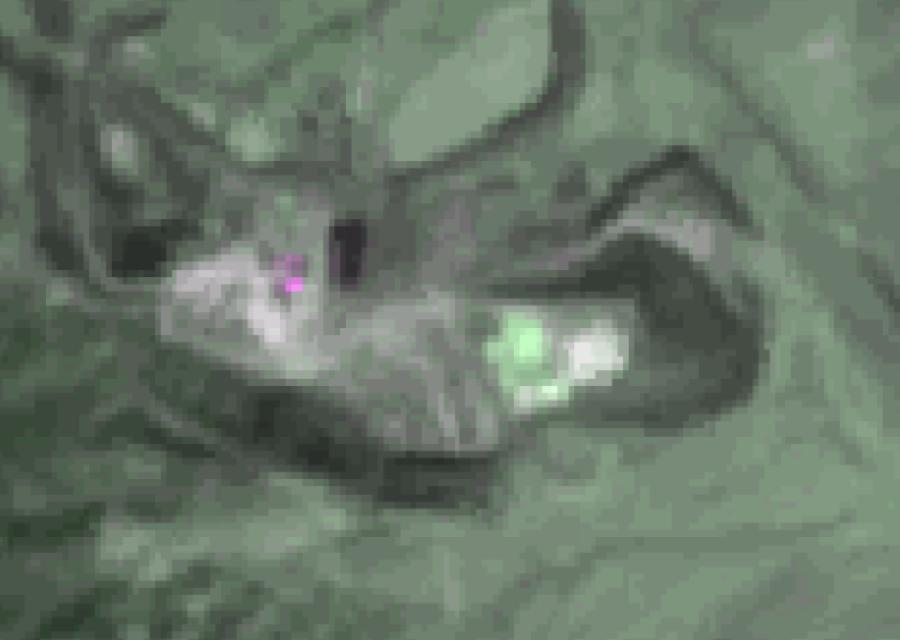Potential Lime Manufacturing Facility: (286, 278, 304, 292)
